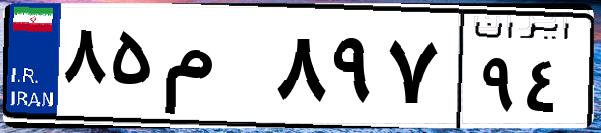4: (525, 38, 570, 115)
5: (110, 28, 158, 98)
7: (385, 28, 445, 110)
8: (270, 28, 330, 110), (57, 26, 110, 100)
9: (330, 28, 385, 110), (475, 38, 525, 113)
م: (158, 20, 270, 120)
